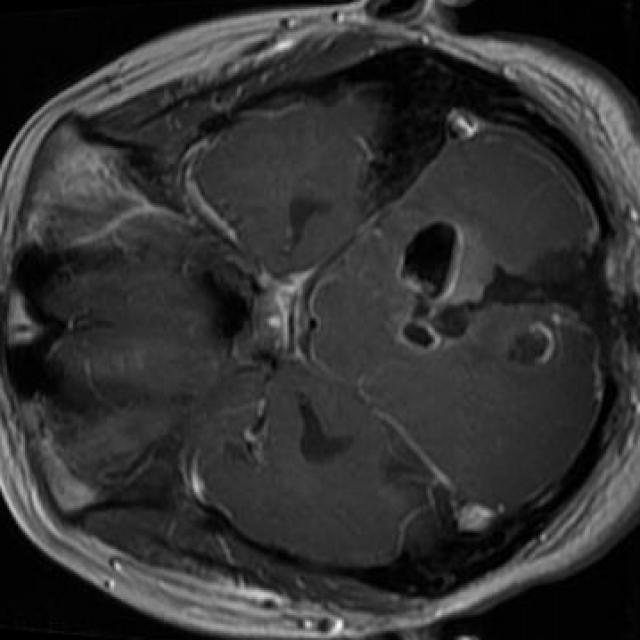glioma: (401, 223, 583, 364)
